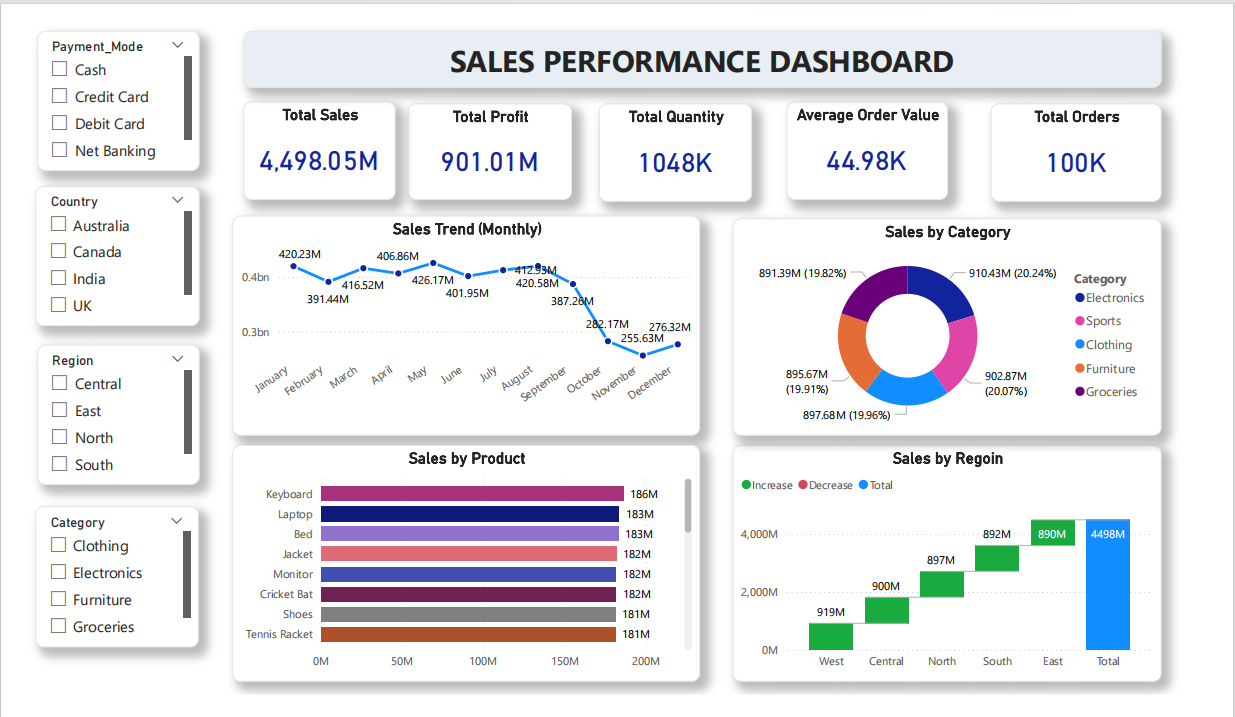

This screenshot's page, from the dashboard's own definition file:
{"tool":"powerbi","page":{"name":"Executive Summary","canvas":[1280,720],"ordinal":0},"visuals":[{"type":"card","title":"Total Profit ","fields":{"Values":["big_sales_dataset_100k.Total Profit"]},"box":[414.1,82.8,177.2,104.4],"z":0},{"type":"card","title":"Total Quantity","fields":{"Values":["big_sales_dataset_100k.Total Quantity"]},"box":[619.5,82.8,165.6,106],"z":1000},{"type":"card","title":"Total Sales","fields":{"Values":["big_sales_dataset_100k.Total Sales"]},"box":[236.9,81.2,164,106],"z":2000},{"type":"card","title":"Average Order Value","fields":{"Values":["big_sales_dataset_100k.Average Order Value"]},"box":[821.6,81.2,173.9,106],"z":3000},{"type":"card","title":"Total Orders","fields":{"Values":["big_sales_dataset_100k.Total Orders"]},"box":[1041.9,82.8,183.9,106],"z":4000},{"type":"lineChart","title":"Sales Trend  (Monthly)","fields":{"Category":["big_sales_dataset_100k.Order_Date.Variation.Date Hierarchy.Month"],"Y":["Sum(big_sales_dataset_100k.Net_Sales)"]},"box":[225.3,203.7,503.6,236.9],"z":5000},{"type":"waterfallChart","title":"Sales by Regoin","fields":{"Category":["big_sales_dataset_100k.Region"],"Y":["Sum(big_sales_dataset_100k.Net_Sales)"]},"box":[763.6,450.6,462.2,255.1],"z":6000},{"type":"donutChart","title":"Sales by Category","fields":{"Category":["big_sales_dataset_100k.Category"],"Y":["Sum(big_sales_dataset_100k.Net_Sales)"]},"box":[763.6,207.1,462.2,233.6],"z":7000},{"type":"slicer","fields":{"Values":["big_sales_dataset_100k.Country"]},"box":[13.3,172.3,177.2,150.7],"z":8000},{"type":"slicer","fields":{"Values":["big_sales_dataset_100k.Payment_Mode"]},"box":[14.9,5,175.6,150.7],"z":9000},{"type":"slicer","fields":{"Values":["big_sales_dataset_100k.Region"]},"box":[14.9,342.9,175.6,150.7],"z":10000},{"type":"slicer","fields":{"Values":["big_sales_dataset_100k.Category"]},"box":[13.3,516.8,175.6,152.4],"z":11000},{"type":"barChart","title":"Sales by Product","fields":{"Category":["big_sales_dataset_100k.Product"],"Y":["Sum(big_sales_dataset_100k.Net_Sales)"]},"box":[225.3,450.6,503.6,255.1],"z":12000},{"type":"textbox","box":[236.9,5,988.9,61.3],"z":13000}]}

Visuals, with their boxes on the page's 1280x720 design canvas (x1, y1, x2, y2). These are canvas units, not pixel positions in the 1235x717 screenshot, which may show the page scaled, cropped or inside an application window:
"Total Profit " card: (left=414, top=83, right=591, bottom=187)
"Total Quantity" card: (left=620, top=83, right=785, bottom=189)
"Total Sales" card: (left=237, top=81, right=401, bottom=187)
"Average Order Value" card: (left=822, top=81, right=996, bottom=187)
"Total Orders" card: (left=1042, top=83, right=1226, bottom=189)
"Sales Trend  (Monthly)" lineChart: (left=225, top=204, right=729, bottom=441)
"Sales by Regoin" waterfallChart: (left=764, top=451, right=1226, bottom=706)
"Sales by Category" donutChart: (left=764, top=207, right=1226, bottom=441)
slicer - big_sales_dataset_100k.Country: (left=13, top=172, right=190, bottom=323)
slicer - big_sales_dataset_100k.Payment_Mode: (left=15, top=5, right=190, bottom=156)
slicer - big_sales_dataset_100k.Region: (left=15, top=343, right=190, bottom=494)
slicer - big_sales_dataset_100k.Category: (left=13, top=517, right=189, bottom=669)
"Sales by Product" barChart: (left=225, top=451, right=729, bottom=706)
textbox: (left=237, top=5, right=1226, bottom=66)
